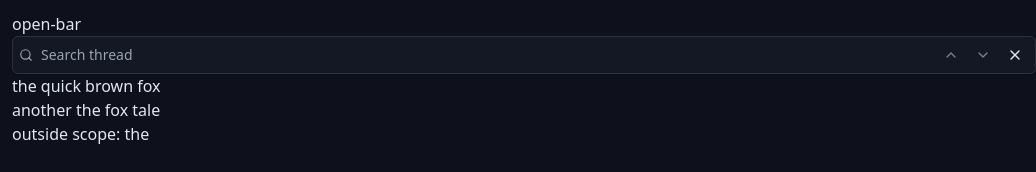
Test: ThreadSearch UI › renders 'No matches' when the query has no hits
This screenshot has width=1036, height=172.
Type "zzz" into the field with placeholder "Search thread". click: (479, 55)
box: [37,45,921,65]
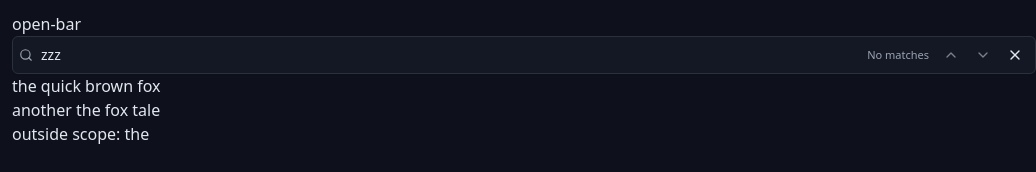
Expected: the text "No matches" is shown, [863,47,933,63]
